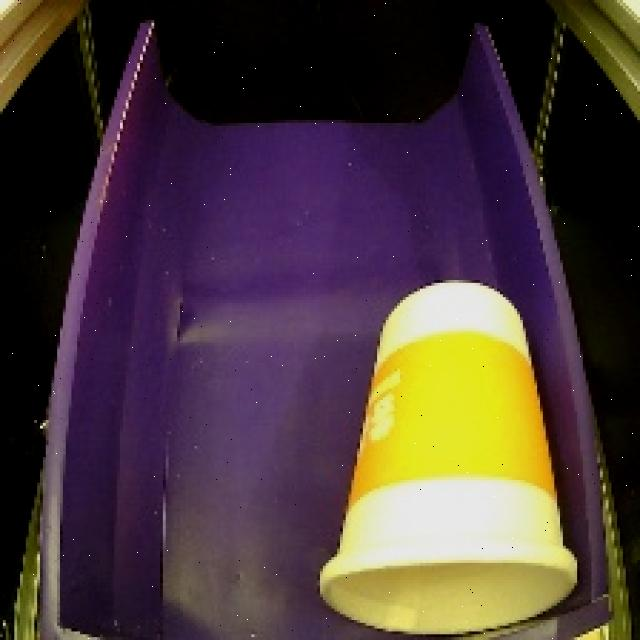cups: (303, 267, 587, 640)
